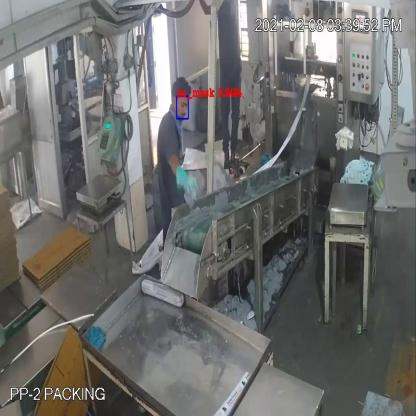glove: (166, 151, 202, 204)
